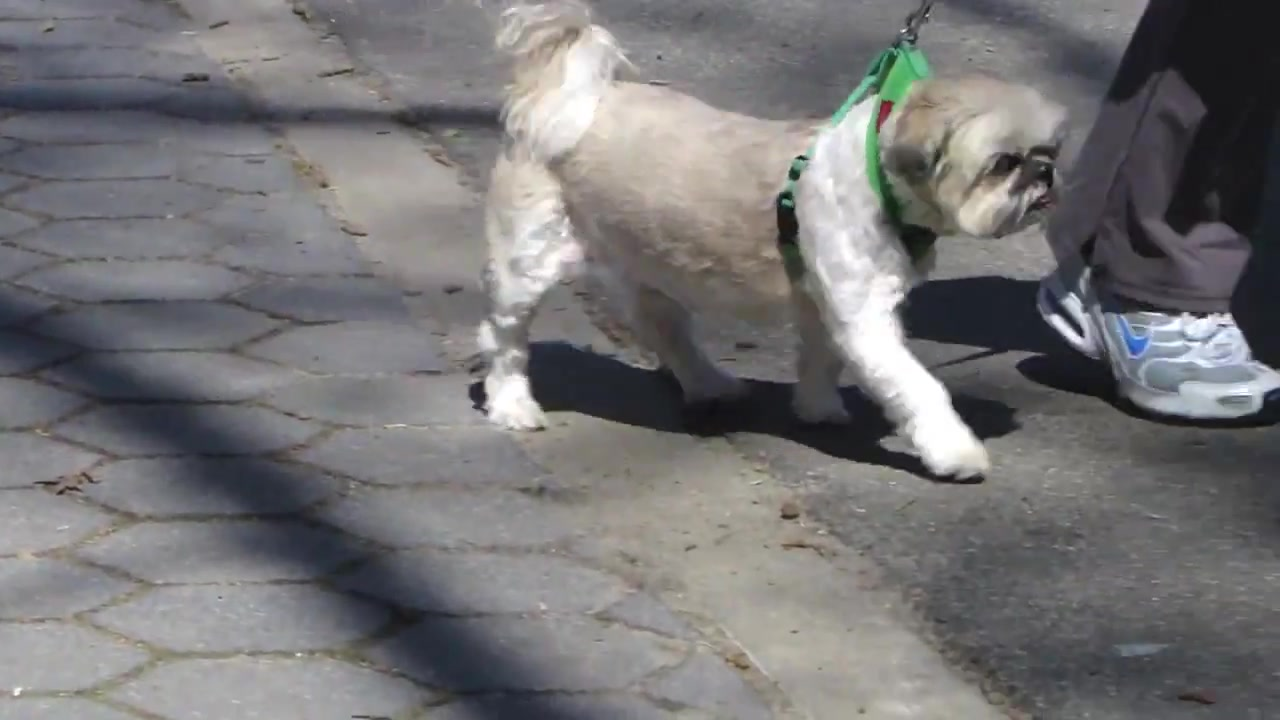dog: (472, 4, 1071, 485)
